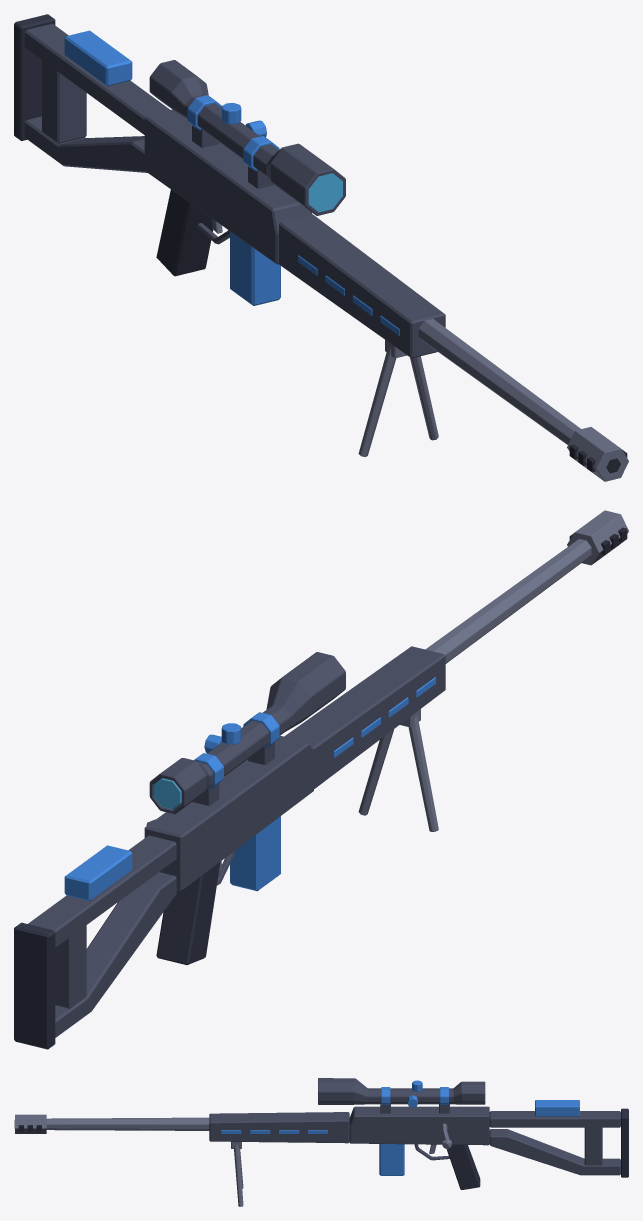
The model's file is myw_sniperrifle.glb.
The picture shows the model from 3 angles, top to bottom: view 1: azimuth 30°, elevation 25°; view 2: azimuth 150°, elevation 25°; view 3: azimuth 270°, elevation 25°; orthographic projection. The views are drawn at different scales.
Parts seen in each view (by area): view 1: Chassis, Scope, Barrel, Mag, Bipod; view 2: Chassis, Scope, Barrel, Mag, Bipod; view 3: Chassis, Scope, Barrel, Mag, Bipod.
Part boxes in pixels (x1,y1,x2,y2): Chassis: (14, 14, 445, 358); Scope: (149, 60, 345, 215); Barrel: (418, 319, 628, 481); Mag: (230, 231, 280, 305); Bipod: (358, 340, 438, 456); Chassis: (14, 646, 445, 1049); Scope: (149, 652, 345, 814); Barrel: (425, 510, 628, 663); Mag: (230, 816, 280, 891); Bipod: (358, 709, 438, 831); Chassis: (209, 1100, 628, 1189); Scope: (318, 1078, 485, 1113); Barrel: (14, 1114, 209, 1133); Mag: (379, 1144, 404, 1175); Bipod: (231, 1142, 243, 1206).
Bounding box in the file's own units: 0.642 × 1.43 × 6.8.
